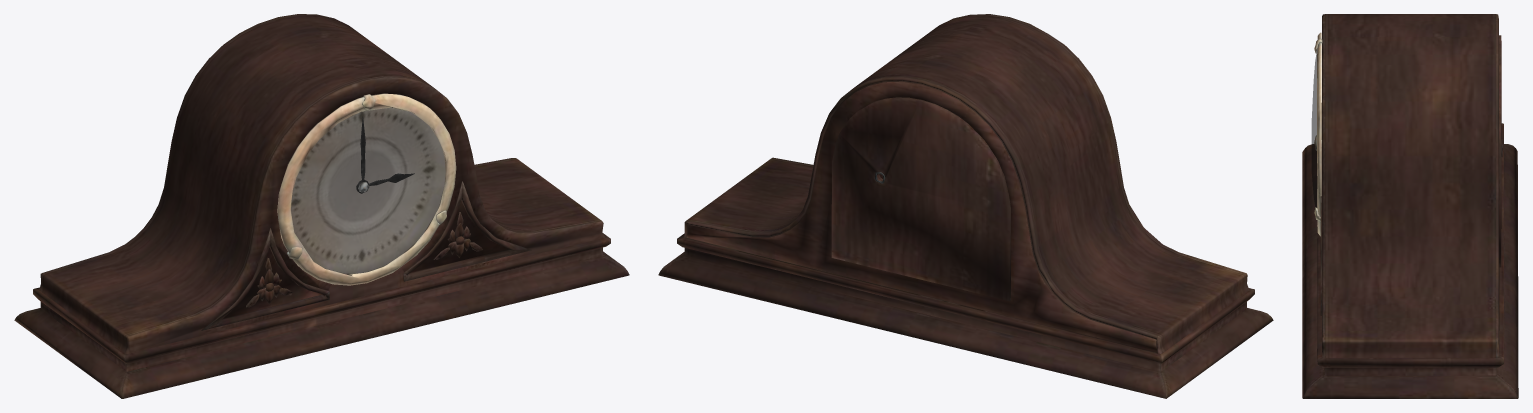
The model's file is mantel_clock_01_lod.gltf.
3 renders of one model, left to right at view 1: azimuth 30°, elevation 25°; view 2: azimuth 150°, elevation 25°; view 3: azimuth 270°, elevation 25°, orthographic.
Visible parts, largest first — view 1: mantel_clock_01, mantel_clock_01_glass; view 2: mantel_clock_01; view 3: mantel_clock_01, mantel_clock_01_glass.
Part boxes in pixels (x1,y1,x2,y2): mantel_clock_01: (14, 14, 629, 398); mantel_clock_01_glass: (291, 108, 445, 275); mantel_clock_01: (658, 14, 1273, 398); mantel_clock_01: (1302, 14, 1518, 398); mantel_clock_01_glass: (1311, 48, 1317, 207).
Bounding box in the file's own units: 0.3418 × 0.1604 × 0.126.
Materials: 2 (2 with a texture image).
